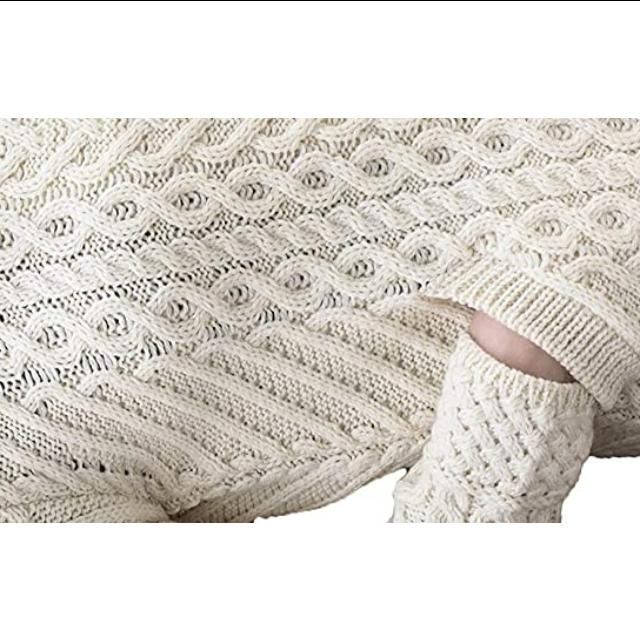wool: (0, 118, 640, 522)
